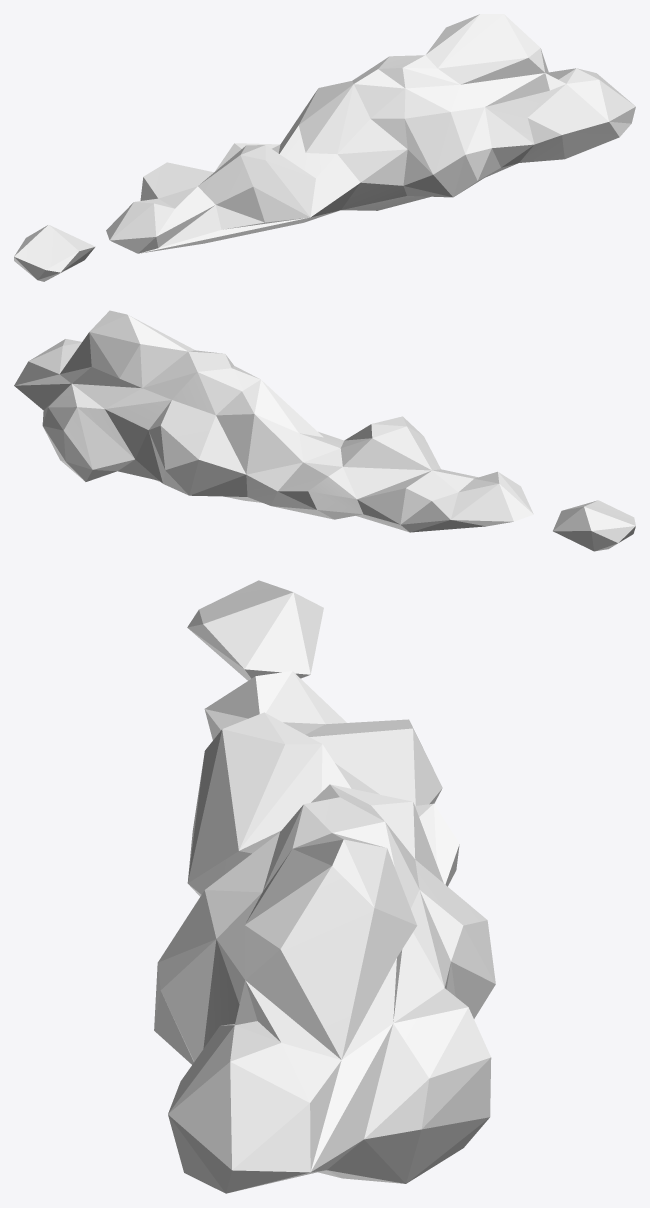
File: cloud_1.glb
3 renders of one model, top to bottom at view 1: azimuth 30°, elevation 25°; view 2: azimuth 150°, elevation 25°; view 3: azimuth 270°, elevation 25°, orthographic. The views are drawn at different scales.
Visible parts, largest first — view 1: SM_Generic_Cloud_01; view 2: SM_Generic_Cloud_01; view 3: SM_Generic_Cloud_01.
Boxes of the visible parts, box(x1,y1,x2,y2) form: SM_Generic_Cloud_01: box(14, 14, 635, 281); SM_Generic_Cloud_01: box(14, 310, 635, 551); SM_Generic_Cloud_01: box(154, 580, 495, 1193).
Bounding box in the file's own units: 6.68 × 1.65 × 1.61.
1 material, 1 textured.
